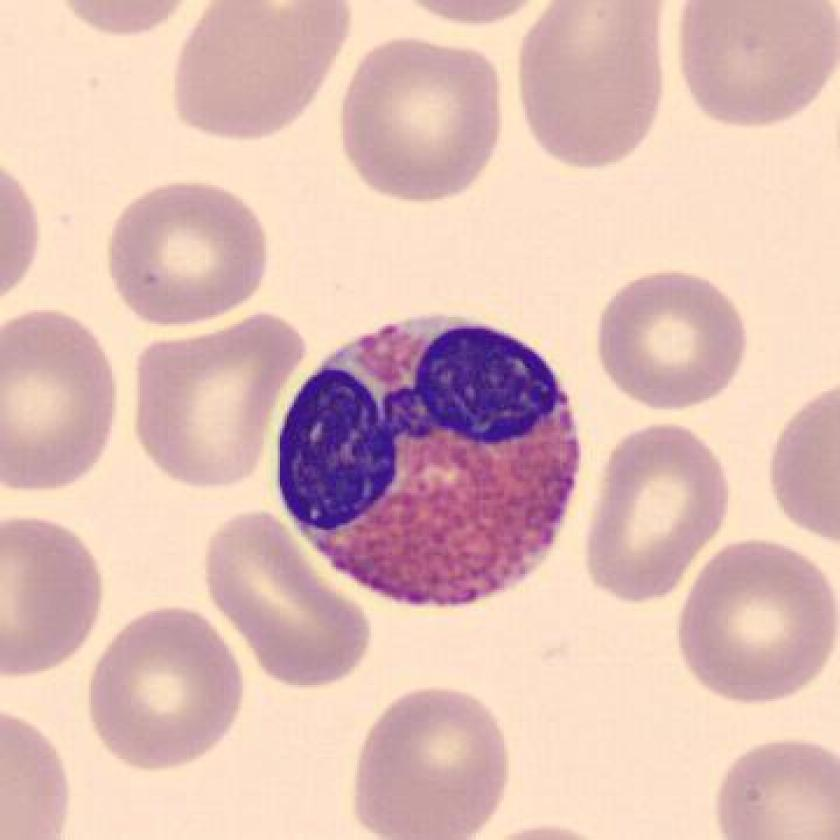eosinophil: (265, 307, 598, 621)
